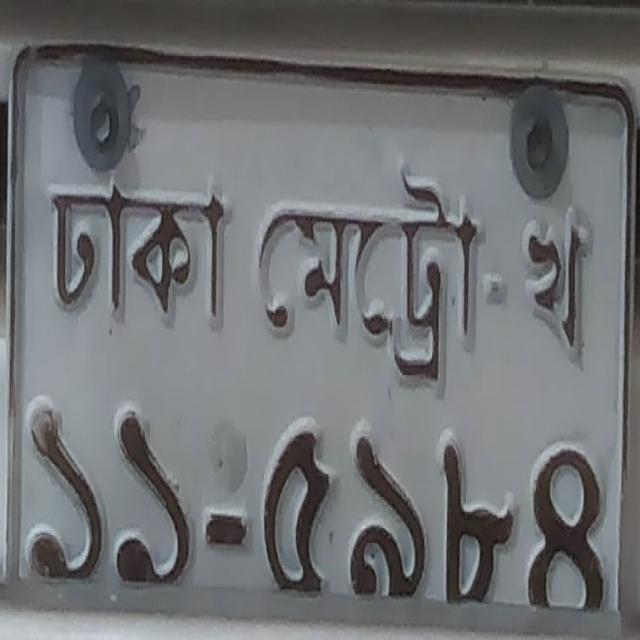cng: (256, 167, 478, 383)
numberplate: (2, 35, 636, 634)
